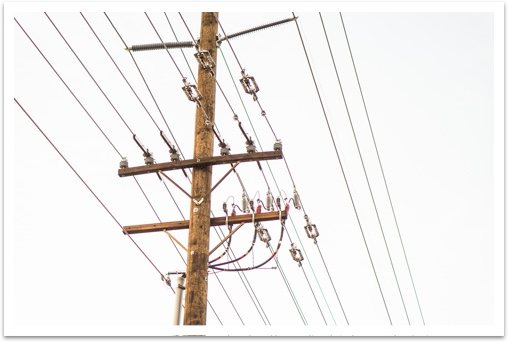utility_pole: (105, 12, 322, 291)
